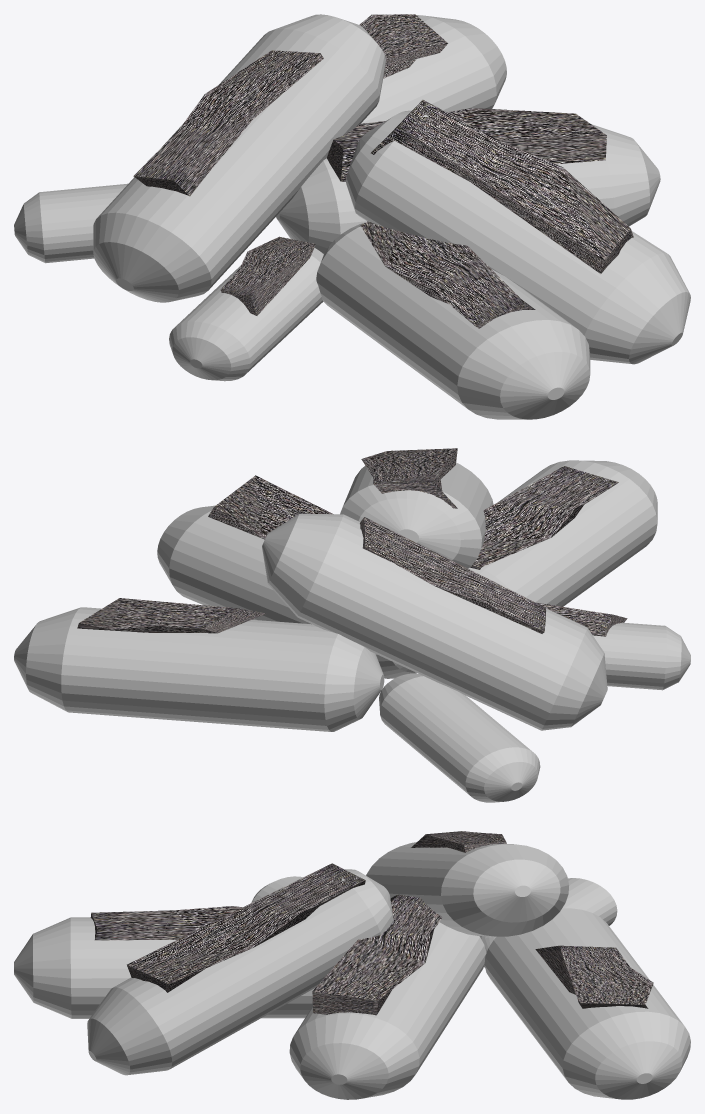
The model's file is jidlo-skubanky-mak.fbx.
3 renders of one model, top to bottom at view 1: azimuth 30°, elevation 25°; view 2: azimuth 150°, elevation 25°; view 3: azimuth 270°, elevation 25°, orthographic. The views are drawn at different scales.
Visible parts, largest first — view 1: Cylinder, Cube; view 2: Cylinder, Cube; view 3: Cylinder, Cube.
Boxes of the visible parts, x1=… form: Cylinder: x1=14, y1=14, x2=690, y2=419; Cube: x1=133, y1=14, x2=633, y2=328; Cylinder: x1=14, y1=460, x2=690, y2=802; Cube: x1=77, y1=448, x2=627, y2=636; Cylinder: x1=14, y1=842, x2=690, y2=1099; Cube: x1=90, y1=831, x2=653, y2=1015.
Bounding box in the file's own units: 1.22 × 0.3605 × 0.9392.
